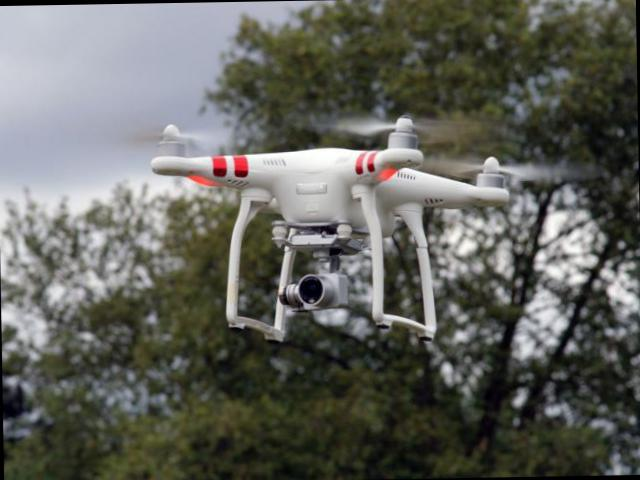drone: (148, 114, 515, 350)
